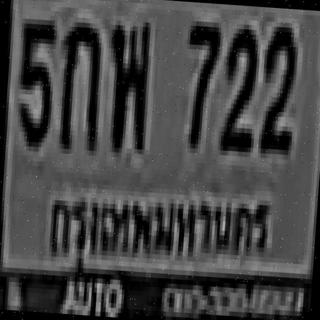A01: (56, 17, 103, 151)
A30: (102, 15, 151, 149)
N02: (257, 19, 299, 148), (219, 19, 258, 148)
N05: (14, 13, 55, 142)
N07: (180, 16, 219, 145)
P04: (41, 170, 275, 284)
